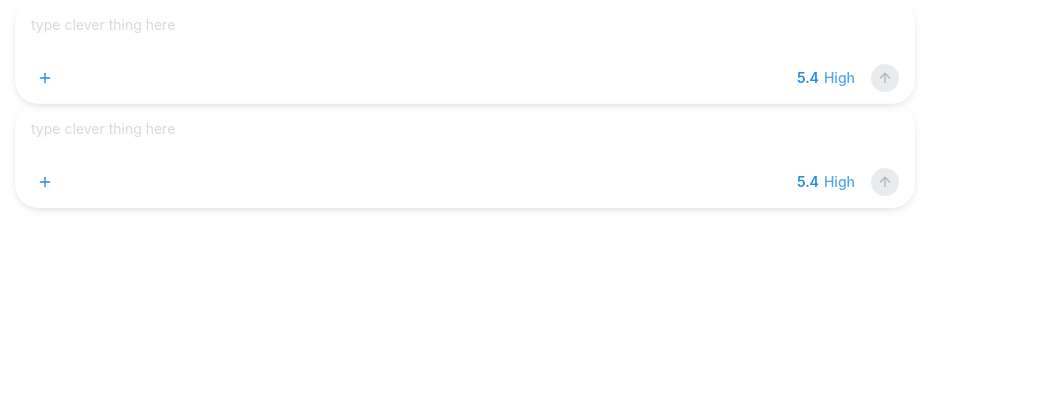
Test: ThreadPaneComposerBridge › makes duplicated side panes share native settings while retaining their own unsent text
The width and height of the screenshot is (1052, 408).
Expected: the button with aria-label "Model: gpt-5.4, high" is shown, [787,65,865,91]
Step 1. Type "First draft" into the text box named "message composer" → (465, 35), box [29,14,901,56]
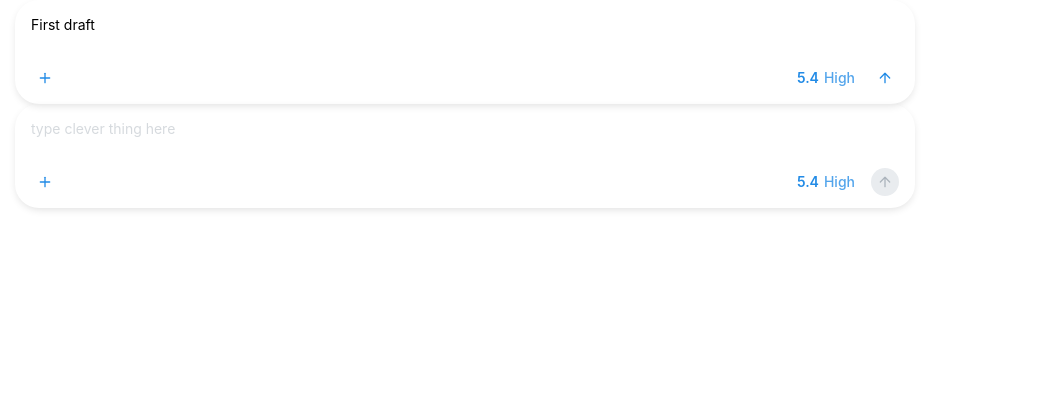
Step 2. Type "Second draft" into the text box named "message composer" → (465, 139), box [29,118,901,160]
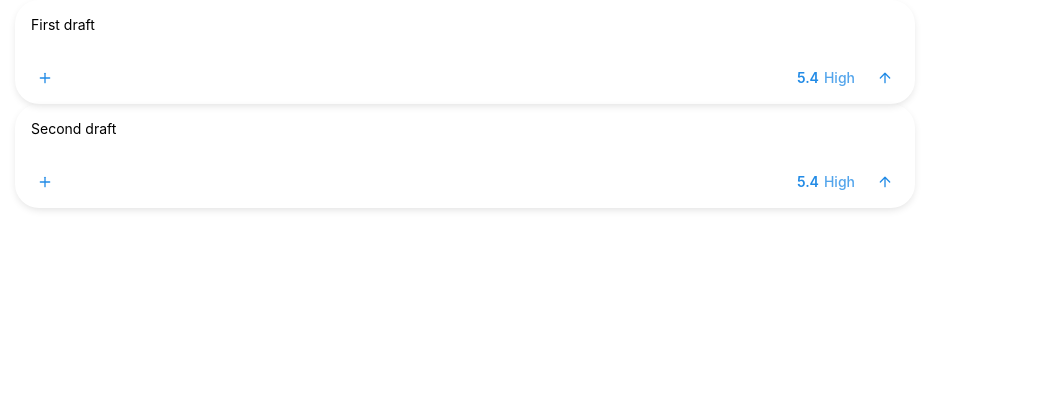
Step 3. Click the button with aria-label "Model: gpt-5.4, high" → (826, 182), box [787,169,865,195]
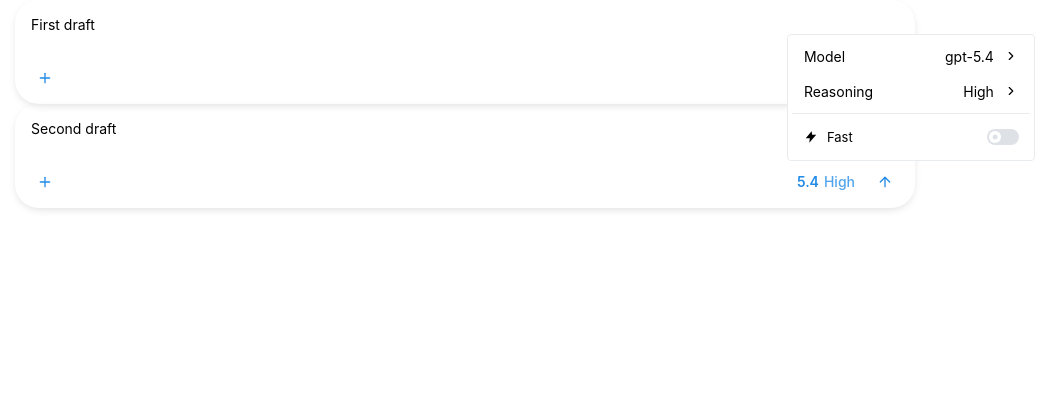
Expected: the menu item "Reasoning High" is shown
Step 4. Click the menu item "Reasoning High" → (911, 91), box [792,74,1030,109]
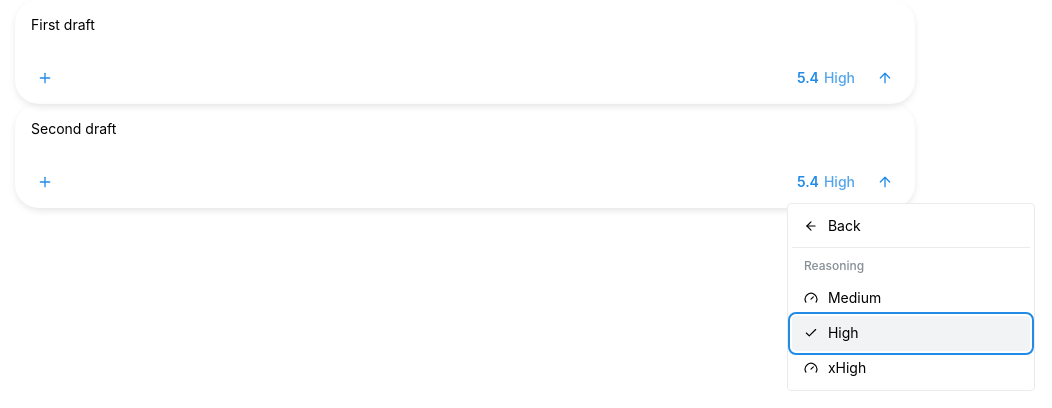
Expected: the menu item "xHigh" is shown
Step 5. Click the menu item "xHigh" → (911, 368), box [792,351,1030,386]
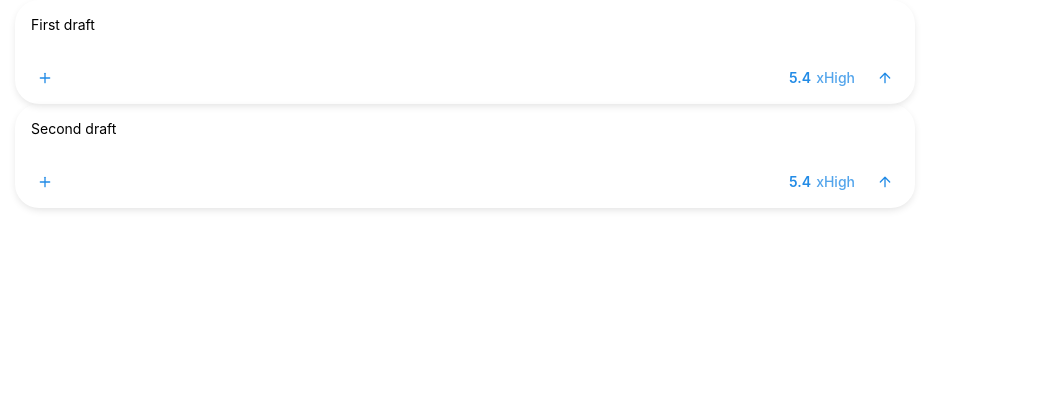
Expected: the button with aria-label "Model: gpt-5.4, xhigh" is shown, [779,65,865,91]
